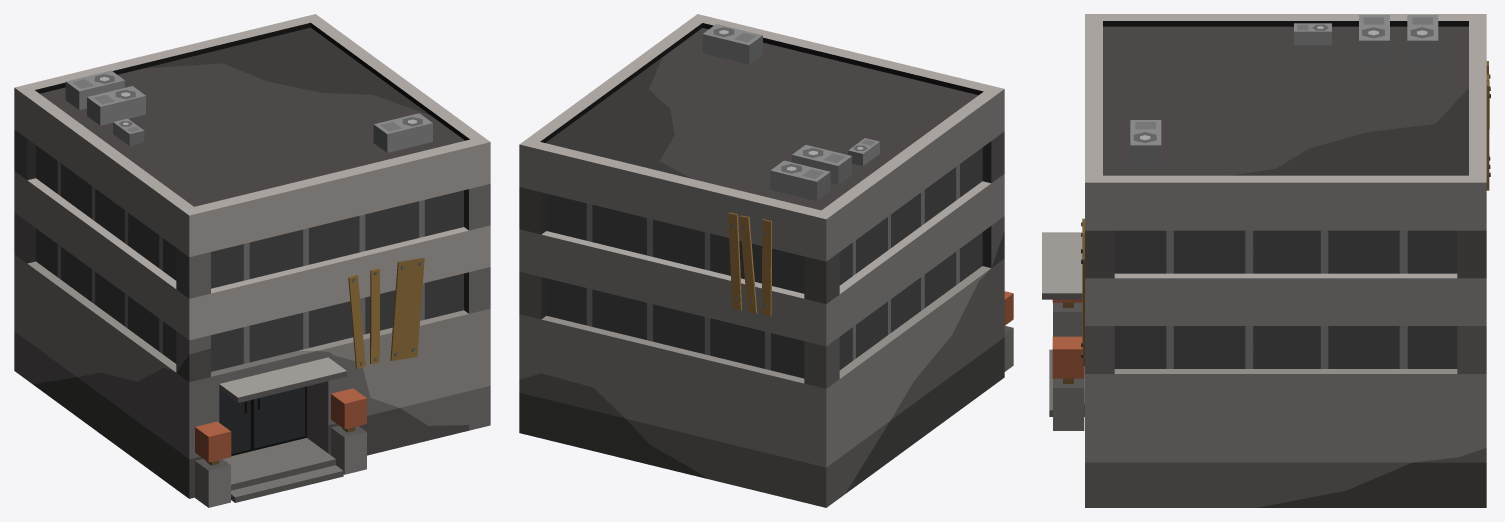
File: SA_Bld_OfficeGrey_01.gltf
3 views of the same model, side by side, from view 1: azimuth 30°, elevation 25°; view 2: azimuth 150°, elevation 25°; view 3: azimuth 270°, elevation 25° (orthographic). The views are drawn at different scales.
Visible parts, largest first — view 1: SA_Bld_OfficeGrey_01; view 2: SA_Bld_OfficeGrey_01; view 3: SA_Bld_OfficeGrey_01.
Part boxes in pixels (x1,y1,x2,y2): SA_Bld_OfficeGrey_01: (14,14,490,507); SA_Bld_OfficeGrey_01: (519,14,1013,507); SA_Bld_OfficeGrey_01: (1042,14,1490,507).
Bounding box in the file's own units: 13.62 × 12.84 × 15.31.
Materials: 1 (1 with a texture image).
